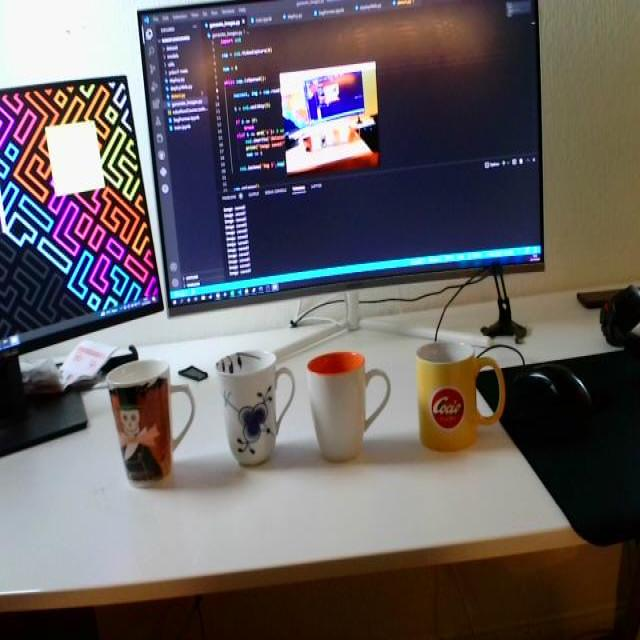cup: (96, 352, 199, 485), (300, 337, 396, 470), (410, 323, 505, 450), (211, 345, 294, 465)
